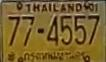4: (46, 16, 58, 44)
5: (74, 15, 86, 44), (60, 15, 72, 44)
7: (8, 15, 20, 45), (22, 16, 34, 46), (88, 15, 100, 44)
BKK: (22, 49, 85, 61)
